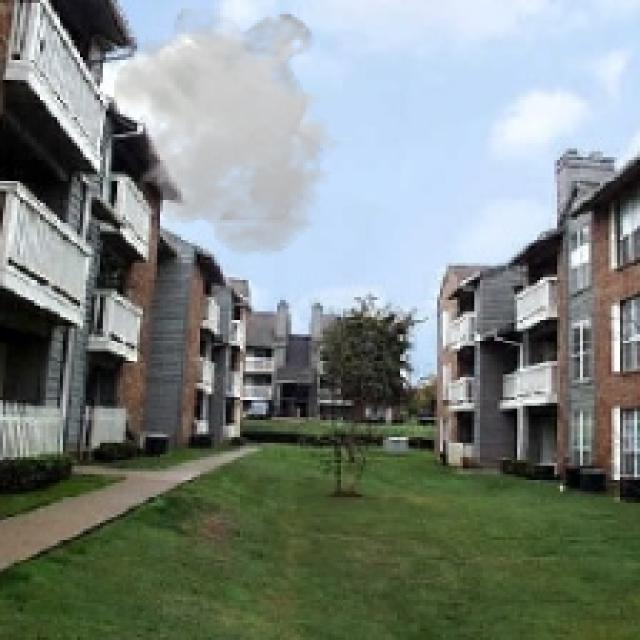Smoke: (114, 9, 354, 258)
